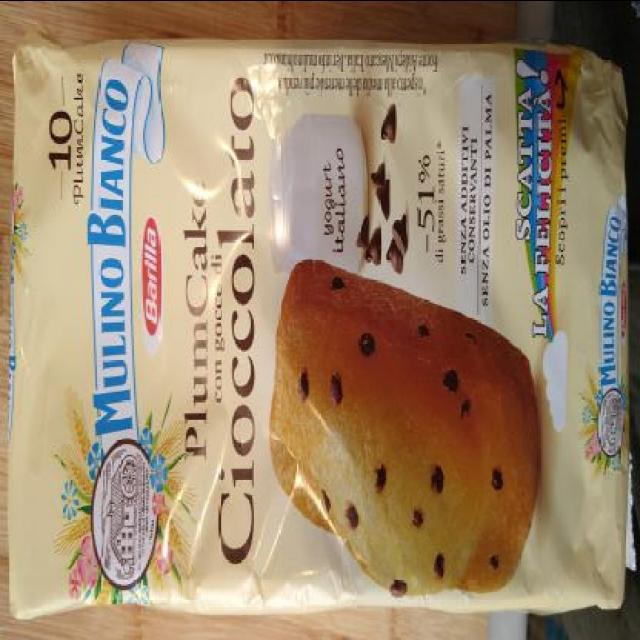Merendine: (8, 32, 630, 620)
Merendine packaged: (267, 258, 547, 596)
